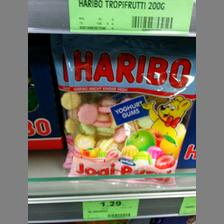Suessigkeit: (61, 33, 194, 185)
